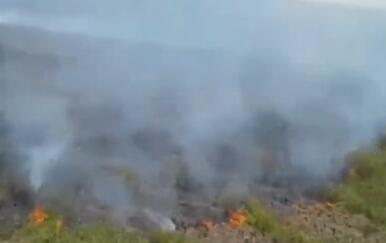yanwu: (2, 0, 386, 201)
